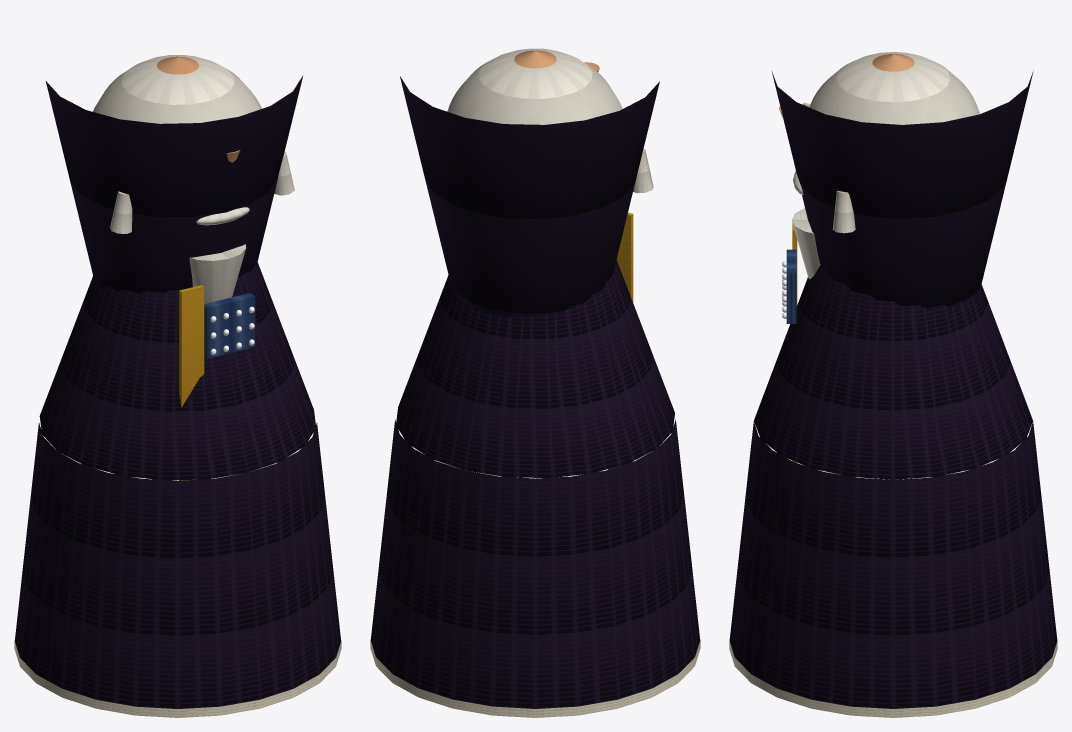
File: annas.glb
3 renders of one model, left to right at view 1: azimuth 30°, elevation 25°; view 2: azimuth 150°, elevation 25°; view 3: azimuth 270°, elevation 25°, orthographic.
Parts seen in each view (by area): view 1: Character_annas_the_patriarch, head; view 2: Character_annas_the_patriarch, head; view 3: Character_annas_the_patriarch, head.
Boxes of the visible parts, x1,y1,x2,y2 form: Character_annas_the_patriarch: (14,55,341,717); head: (156,56,198,74); Character_annas_the_patriarch: (370,48,700,717); head: (514,50,556,68); Character_annas_the_patriarch: (729,52,1057,717); head: (872,54,914,71).
Size of the model in its own units: 0.9023 by 1.8 by 0.9023.
Materials: 13 (8 with a texture image).
